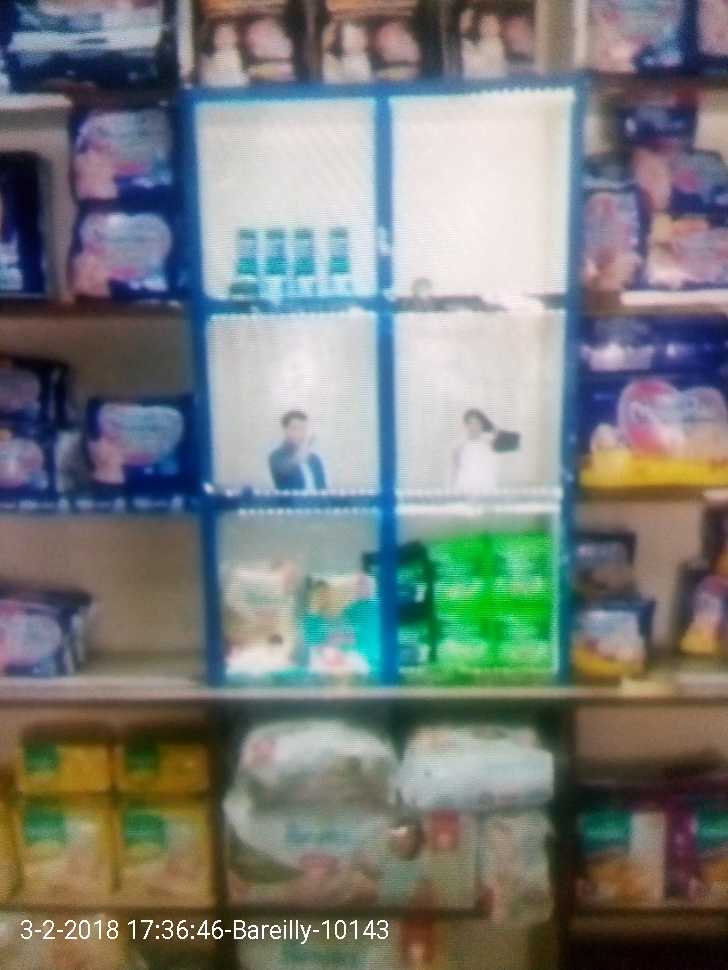vicks: (230, 223, 359, 305)
